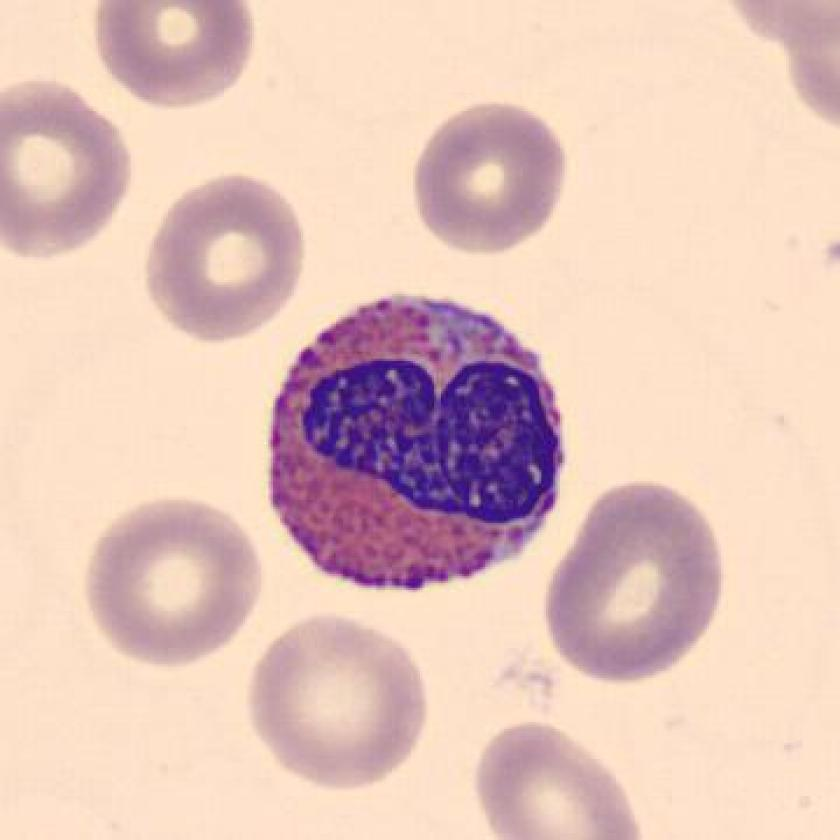eosinophil: (255, 283, 575, 610)
